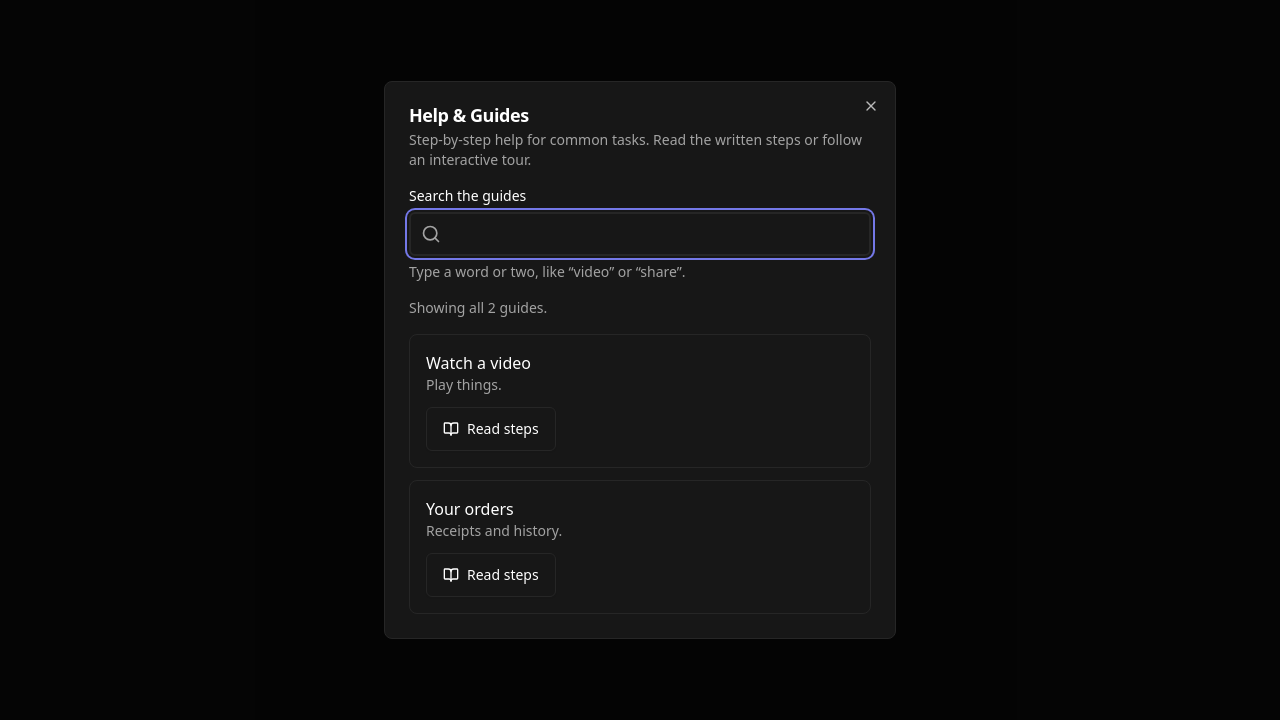
GuidesLauncher search › clears the box with the clear button and returns focus to it
Step 1. Type "video" into the search field → (640, 234), box x1=409 y1=212 x2=871 y2=256
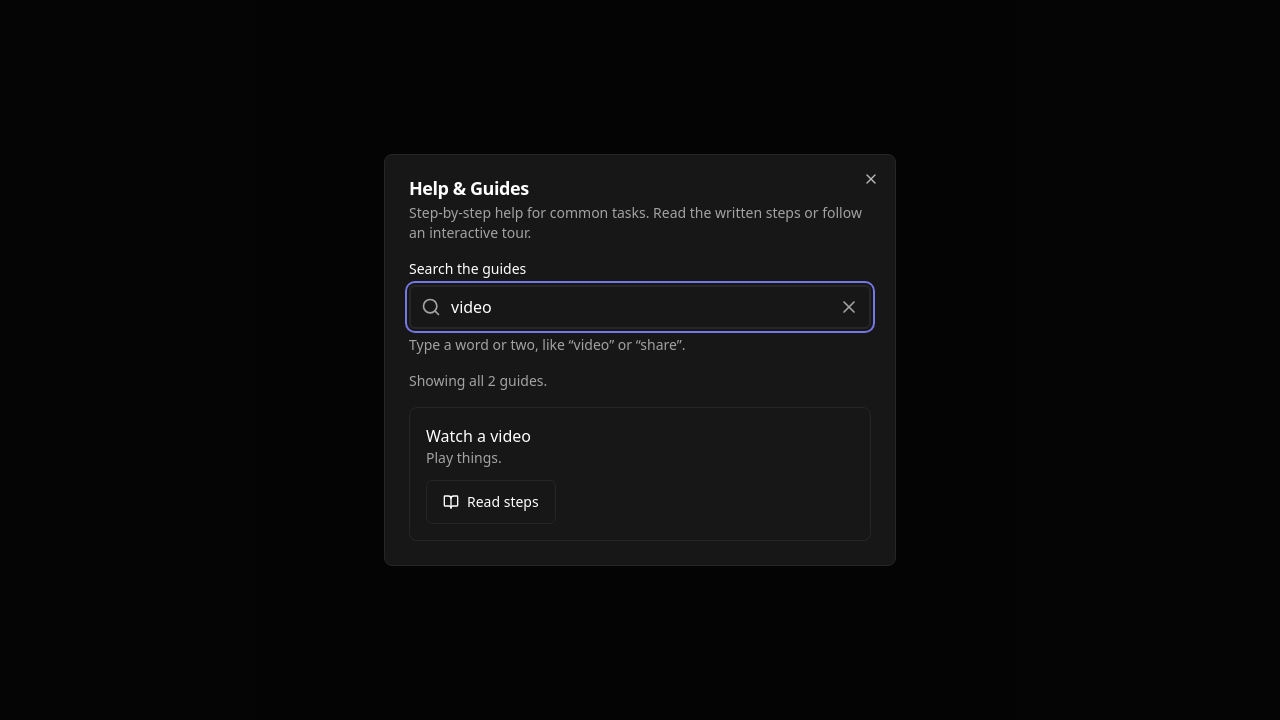
Step 2. Click the button named "Clear search" → (849, 307), box x1=827 y1=285 x2=871 y2=329
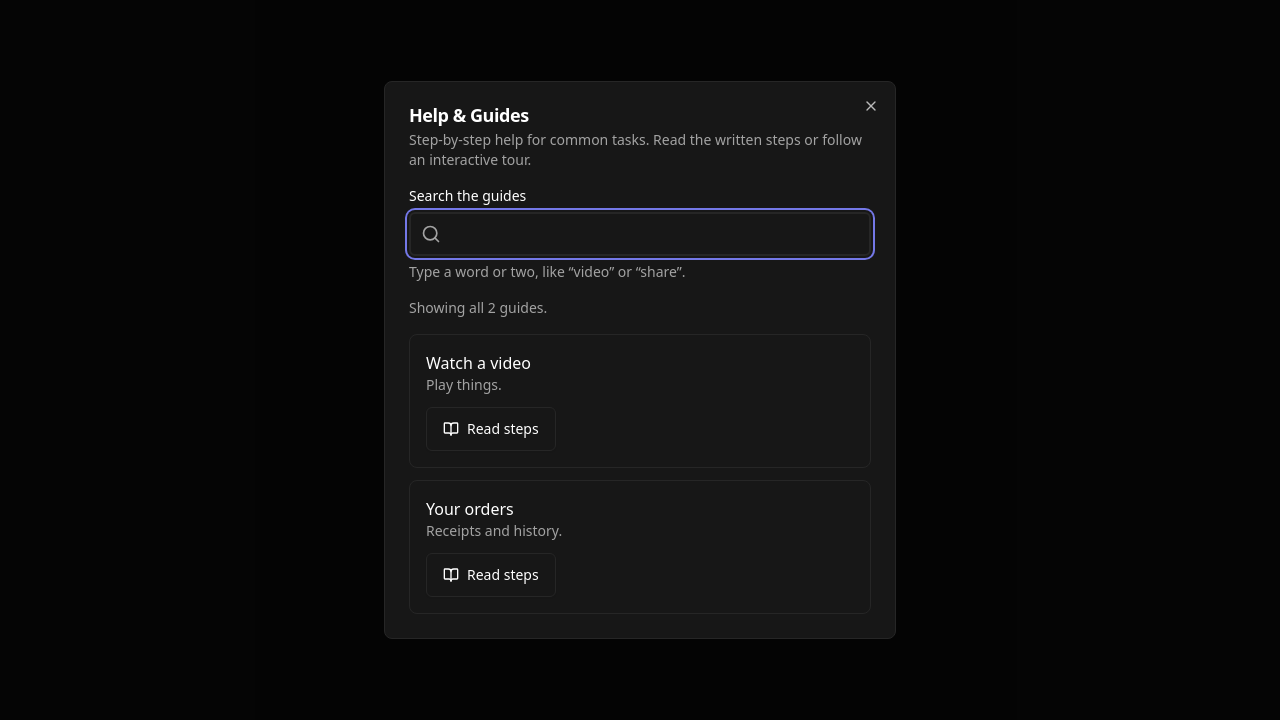
Now the search field is empty, box x1=409 y1=212 x2=871 y2=256
